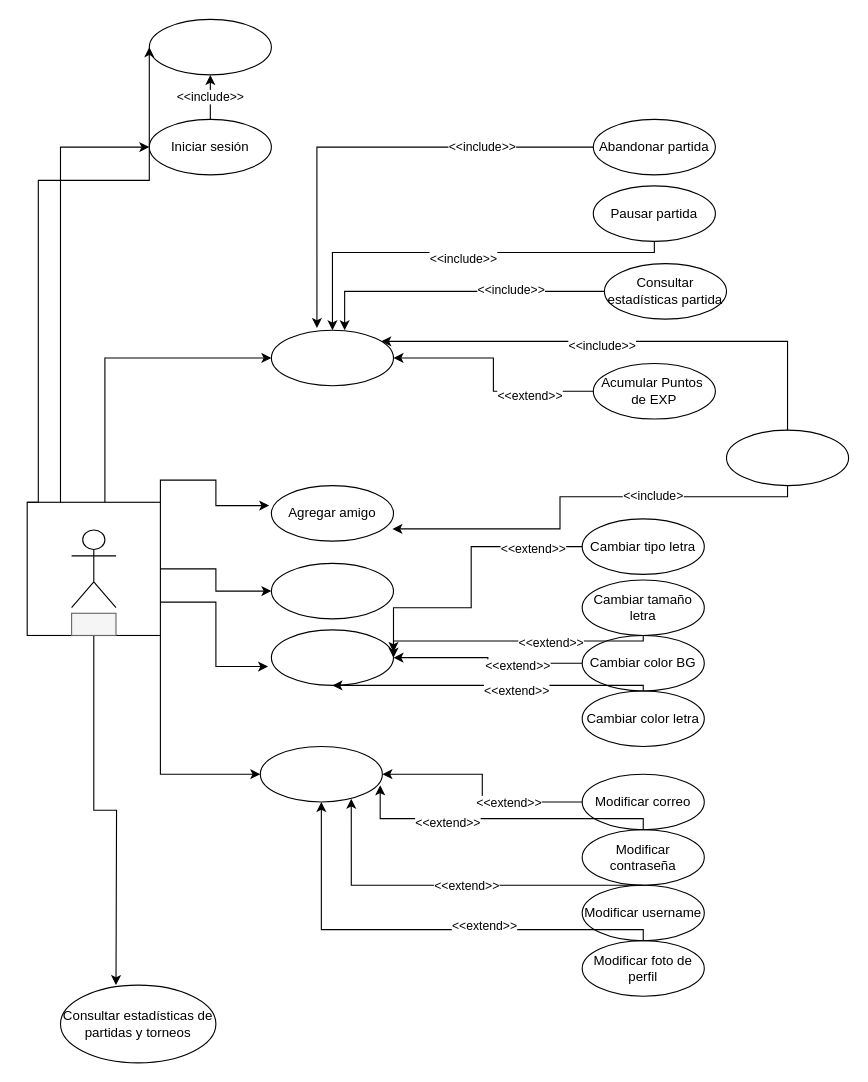
The diagram is 868 pixels wide and 1082 high, and some of its shapes have lost their labels. The centre of each missing label's shape, as x and y in pixels:
"Actor" goes at [93,568].
"Eliminar amigo" goes at [331,590].
"Iniciar partida / torneo" goes at [331,357].
"Jugar con amigo" goes at [787,457].
"Modificar perfil" goes at [320,773].
"Modificar tema" goes at [331,657].
"Resgistrarse" goes at [209,46].
"Usuario" goes at [93,623].
